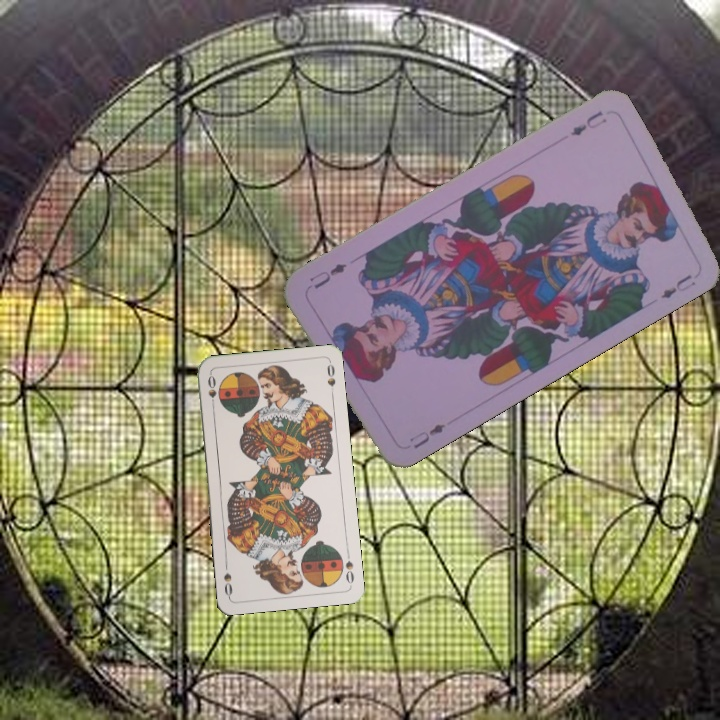EU: (405, 419, 448, 451), (567, 107, 610, 139)
SO: (204, 370, 219, 411), (341, 557, 356, 586)
